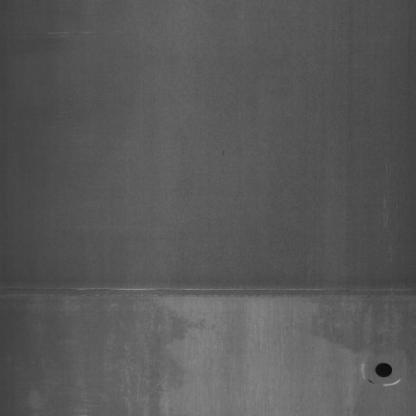punching_hole: (373, 357, 396, 383)
welding_line: (1, 278, 414, 306)
